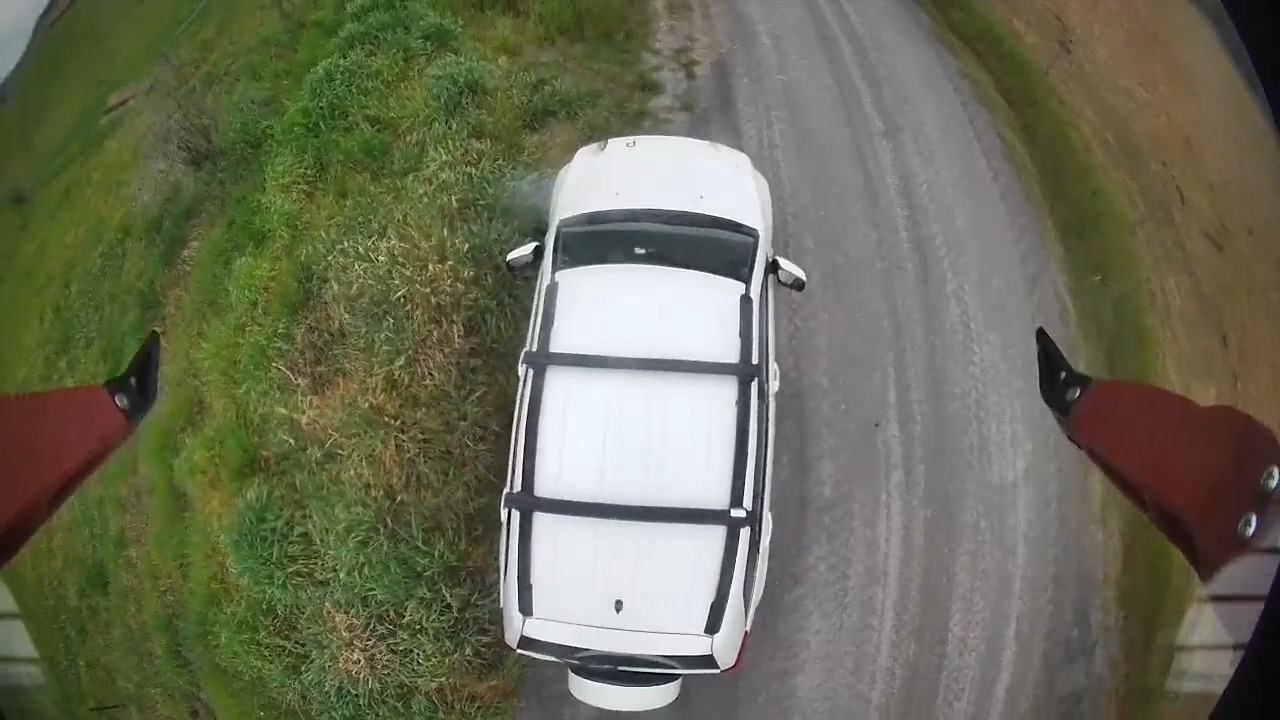Car: (498, 135, 806, 711)
